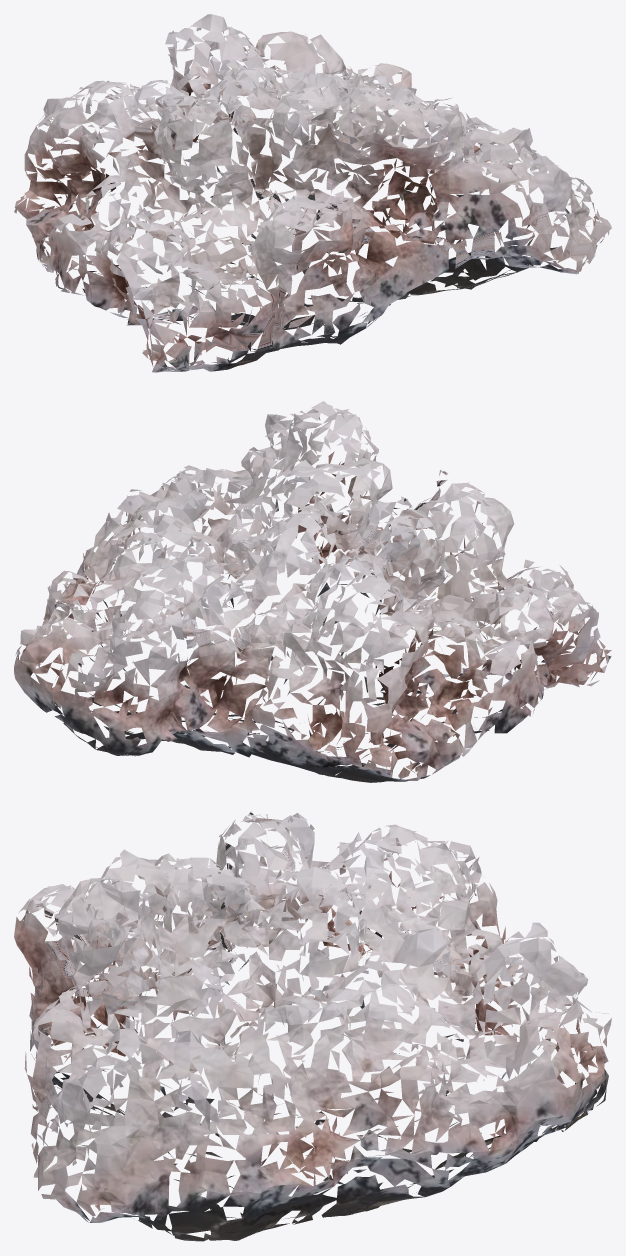
The model's file is quartz.glb.
3 renders of one model, top to bottom at view 1: azimuth 30°, elevation 25°; view 2: azimuth 150°, elevation 25°; view 3: azimuth 270°, elevation 25°, orthographic. The views are drawn at different scales.
Visible parts, largest first — view 1: Quartz; view 2: Quartz; view 3: Quartz.
Part boxes in pixels (x1,y1,x2,y2): Quartz: (14,14,611,372); Quartz: (14,401,611,782); Quartz: (14,811,611,1241).
Bounding box in the file's own units: 2.76 × 1.47 × 2.57.
1 material, 1 textured.
